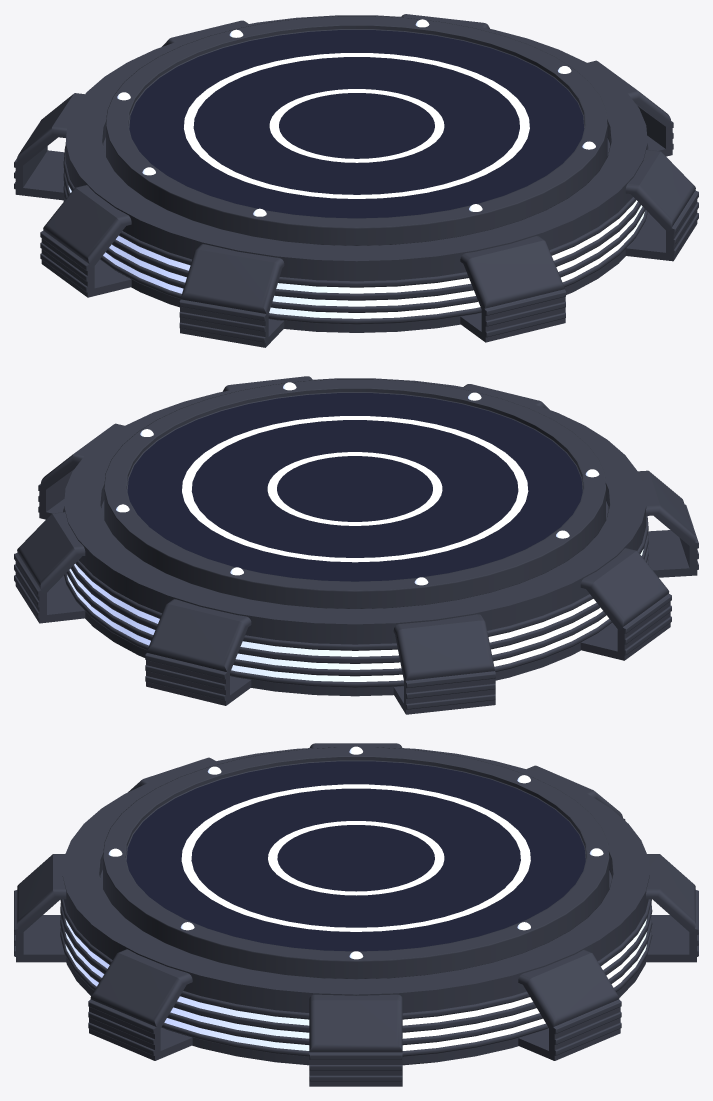
The model's file is robot stand bottom dark.fbx.
3 renders of one model, top to bottom at view 1: azimuth 30°, elevation 25°; view 2: azimuth 150°, elevation 25°; view 3: azimuth 270°, elevation 25°, orthographic.
Parts seen in each view (by area): view 1: pCylinder1, pCube6, pCube1, pCube3, pCube5, pCube7, pCube4; view 2: pCylinder1, pCube7, pCube2, pCube3, pCube8, pCube6, pCube4; view 3: pCylinder1, pCube4, pCube5, pCube8, pCube2, pCube1, pCube7.
Part boxes in pixels (<box>): pCylinder1: <box>63,15,648,332</box>; pCube6: <box>179,244,284,347</box>; pCube1: <box>460,236,565,342</box>; pCube3: <box>40,185,131,297</box>; pCube5: <box>625,149,698,261</box>; pCube7: <box>14,93,84,200</box>; pCube4: <box>587,60,673,156</box>; pCylinder1: <box>63,378,648,696</box>; pCube7: <box>393,614,495,714</box>; pCube2: <box>145,599,251,705</box>; pCube3: <box>580,548,671,660</box>; pCube8: <box>14,512,85,623</box>; pCube6: <box>638,470,698,577</box>; pCube4: <box>38,423,124,519</box>; pCylinder1: <box>60,746,652,1065</box>; pCube4: <box>309,994,402,1086</box>; pCube5: <box>88,949,192,1060</box>; pCube8: <box>518,950,621,1060</box>; pCube2: <box>646,854,698,962</box>; pCube1: <box>14,854,66,962</box>; pCube7: <box>526,765,625,820</box>.
Size of the model in its own units: 13.24 by 1.99 by 13.24.
